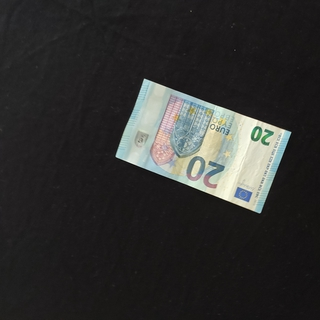20EUROFront: (114, 78, 292, 214)
